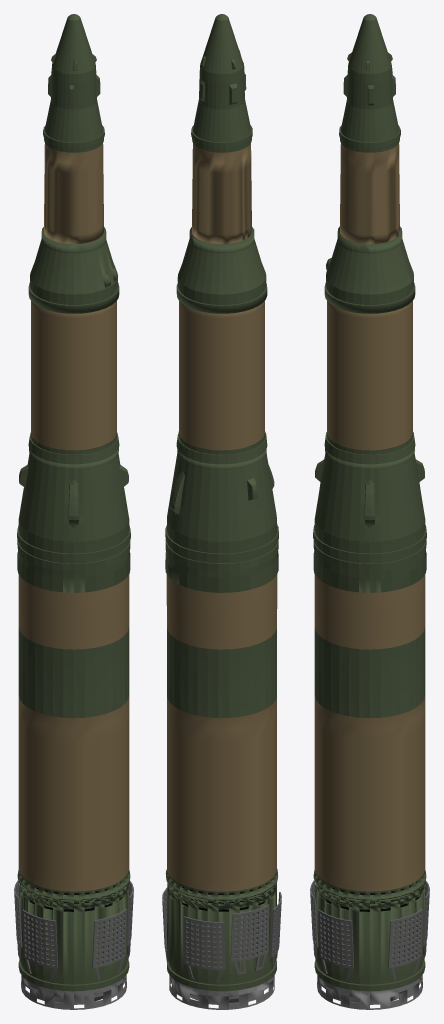
The model's file is icbm.glb.
The picture shows the model from 3 angles, left to right: view 1: azimuth 90°, elevation 25°; view 2: azimuth 210°, elevation 25°; view 3: azimuth 270°, elevation 25°; orthographic projection.
Parts seen in each view (by area): view 1: Object_3, Object_18, Object_17, Object_14, Object_12, Object_16, Object_10; view 2: Object_3, Object_18, Object_6, Object_16, Object_17, Object_14; view 3: Object_18, Object_3, Object_17, Object_8, Object_6, Object_10, Object_16.
Boxes of the visible parts, bbox=[...] form: Object_3: bbox=[18, 143, 129, 891]; Object_18: bbox=[17, 14, 130, 991]; Object_17: bbox=[21, 975, 126, 1009]; Object_14: bbox=[22, 909, 58, 980]; Object_12: bbox=[92, 908, 126, 980]; Object_16: bbox=[14, 880, 22, 958]; Object_10: bbox=[126, 880, 133, 957]; Object_3: bbox=[166, 143, 277, 891]; Object_18: bbox=[165, 14, 278, 991]; Object_6: bbox=[183, 916, 225, 982]; Object_16: bbox=[230, 904, 269, 974]; Object_17: bbox=[169, 975, 274, 1009]; Object_14: bbox=[270, 892, 281, 968]; Object_18: bbox=[313, 14, 426, 991]; Object_3: bbox=[314, 143, 425, 891]; Object_17: bbox=[317, 975, 422, 1009]; Object_8: bbox=[318, 909, 354, 980]; Object_6: bbox=[388, 909, 422, 980]; Object_10: bbox=[310, 880, 318, 958]; Object_16: bbox=[422, 880, 429, 957].
Size of the model in its own units: 1.8 by 16.63 by 1.86.
